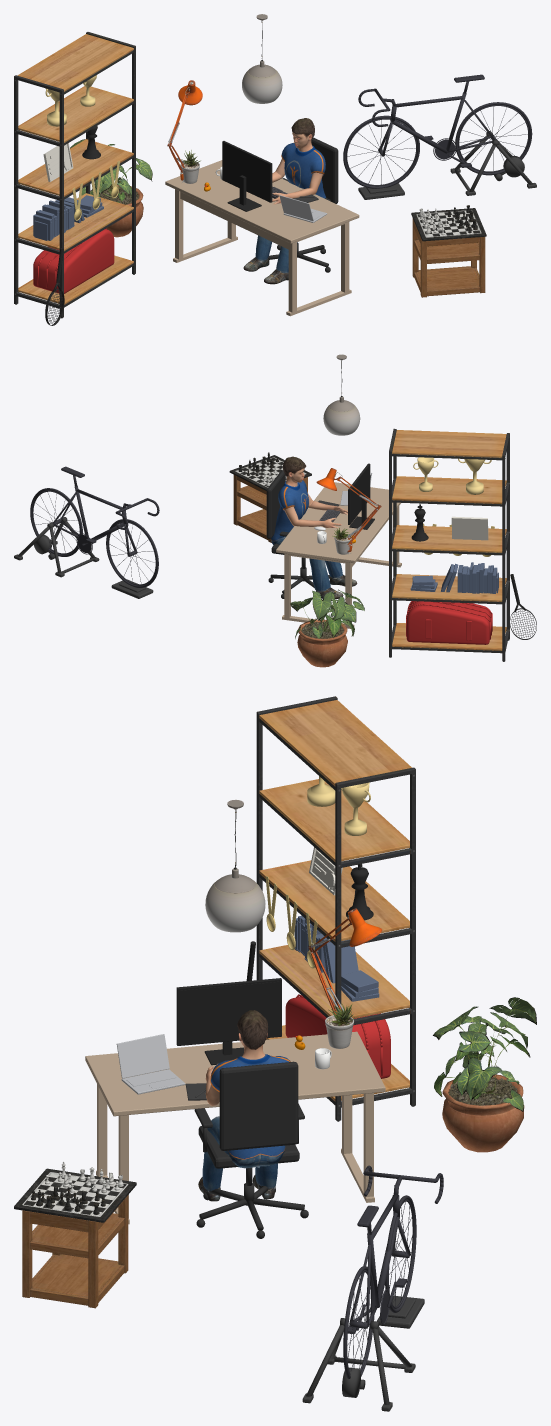
Rendered from garage-color.glb.
3 views of the same model, one above another, from view 1: azimuth 30°, elevation 25°; view 2: azimuth 150°, elevation 25°; view 3: azimuth 270°, elevation 25° (orthographic). The views are drawn at different scales.
Parts seen in each view (by area): view 1: shelves, desk, road_bike, side_table, employee, racket_bag, monitor, chess, floor_plant, books, office_chair, pendant (+8 smaller); view 2: shelves, desk, employee, racket_bag, road_bike, floor_plant, books, side_table, office_chair, pendant, chess, monitor (+7 smaller); view 3: shelves, desk, office_chair, floor_plant, side_table, road_bike, monitor, employee, chess, pendant, racket_bag, laptop_modern (+6 smaller).
Part boxes in pixels (left/top/right/bottom): shelves: left=14, top=32, right=135, bottom=318; desk: left=165, top=160, right=359, bottom=316; road_bike: left=343, top=74, right=532, bottom=188; side_table: left=412, top=218, right=485, bottom=297; employee: left=243, top=118, right=326, bottom=284; racket_bag: left=33, top=228, right=114, bottom=293; monitor: left=222, top=141, right=272, bottom=211; chess: left=411, top=205, right=486, bottom=241; floor_plant: left=70, top=139, right=152, bottom=237; books: left=33, top=195, right=103, bottom=240; office_chair: left=268, top=137, right=338, bottom=280; pendant: left=242, top=14, right=282, bottom=103; shelves: left=389, top=428, right=509, bottom=661; desk: left=276, top=482, right=401, bottom=628; employee: left=270, top=456, right=357, bottom=599; racket_bag: left=406, top=601, right=492, bottom=644; road_bike: left=30, top=466, right=159, bottom=587; floor_plant: left=290, top=589, right=364, bottom=667; books: left=410, top=562, right=498, bottom=593; side_table: left=233, top=475, right=307, bottom=542; office_chair: left=266, top=470, right=330, bottom=598; pendant: left=323, top=354, right=360, bottom=435; chess: left=229, top=452, right=311, bottom=490; monitor: left=348, top=463, right=374, bottom=529; shelves: left=256, top=696, right=415, bottom=1121; desk: left=85, top=1031, right=385, bottom=1224; office_chair: left=194, top=1061, right=308, bottom=1238; floor_plant: left=433, top=997, right=536, bottom=1152; side_table: left=22, top=1195, right=128, bottom=1308; road_bike: left=343, top=1165, right=443, bottom=1378; monitor: left=176, top=978, right=281, bottom=1065; employee: left=198, top=1010, right=290, bottom=1201; chess: left=14, top=1161, right=136, bottom=1222; pendant: left=205, top=799, right=265, bottom=932; racket_bag: left=285, top=994, right=390, bottom=1078; laptop_modern: left=116, top=1034, right=185, bottom=1094.
Size of the model in its own units: 5.16 by 2.44 by 3.
43 materials, 22 textured.
